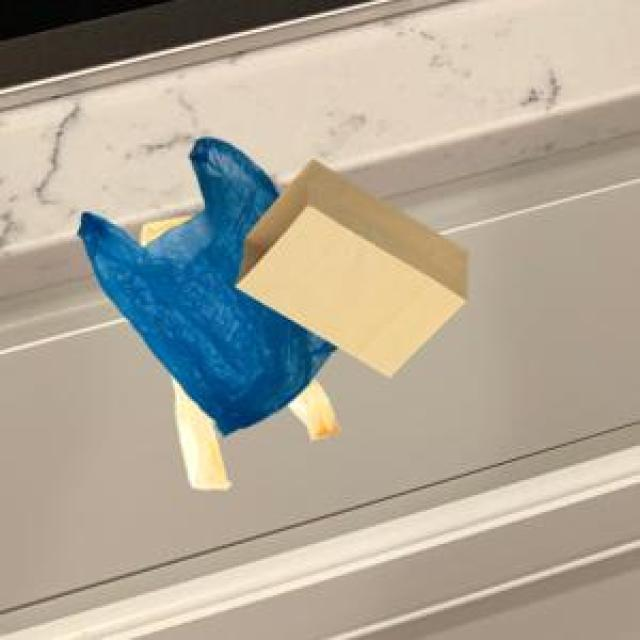paper: (233, 156, 463, 373)
